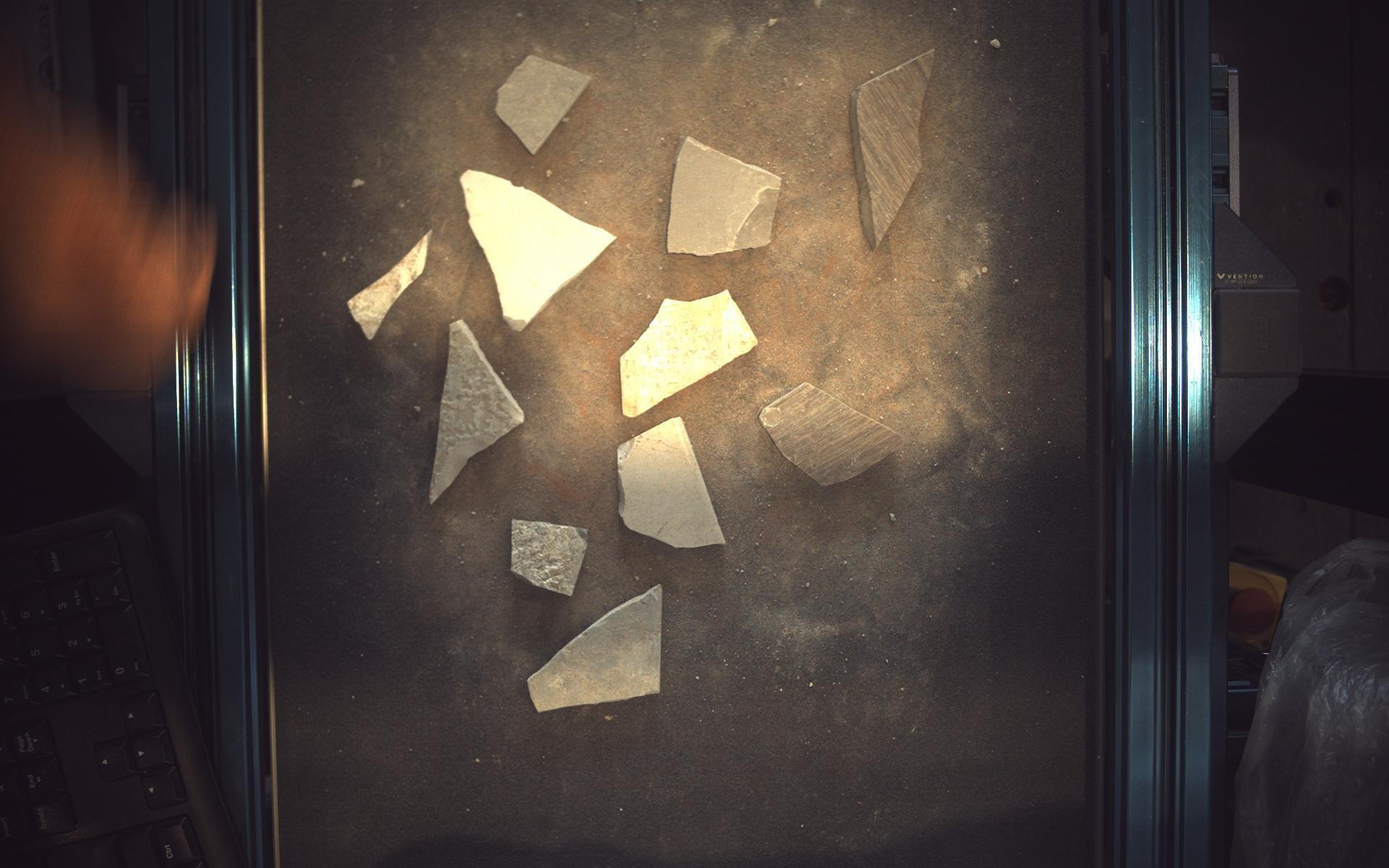tile: (460, 169, 616, 331), (621, 289, 758, 417), (429, 320, 524, 504), (529, 585, 663, 713), (851, 48, 936, 247), (760, 383, 904, 486), (618, 417, 726, 548), (668, 136, 783, 255), (496, 54, 591, 153), (347, 229, 432, 339), (511, 520, 587, 596)
